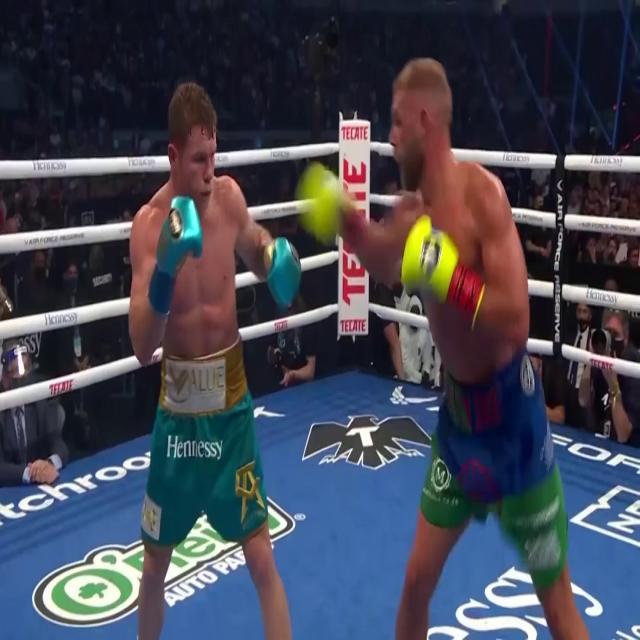boxer_1: (389, 58, 524, 386)
boxer_2: (146, 79, 242, 363)
gloves_1: (401, 215, 485, 324), (296, 162, 361, 246)
gloves_2: (148, 196, 203, 316), (264, 237, 302, 312)
